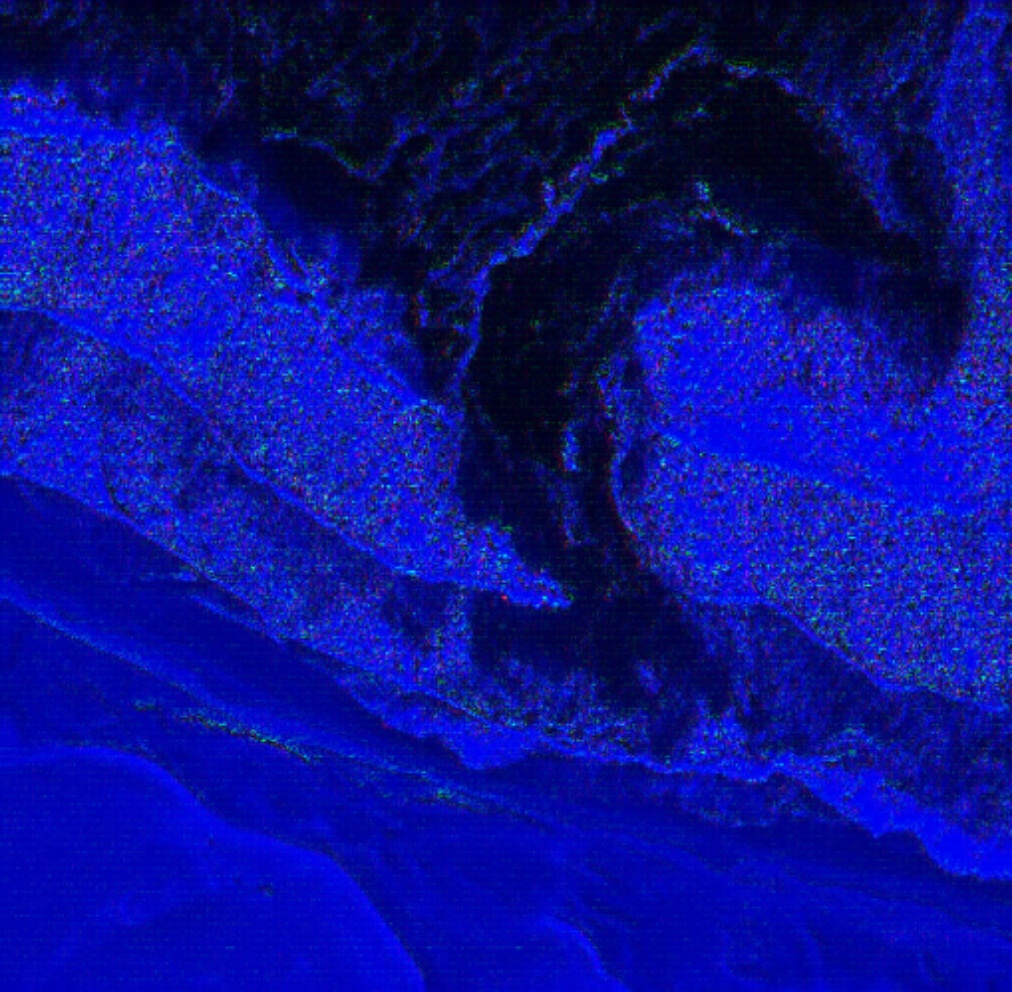rip_current: (348, 263, 747, 689)
